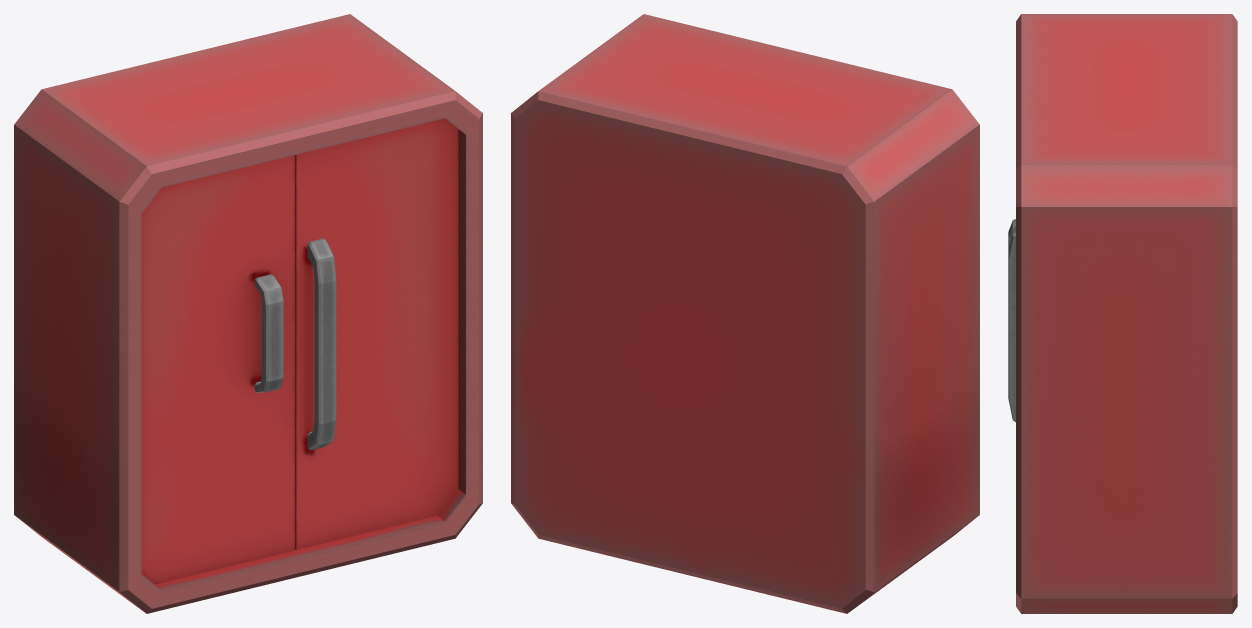
File: Fridge.fbx
3 renders of one model, left to right at view 1: azimuth 30°, elevation 25°; view 2: azimuth 150°, elevation 25°; view 3: azimuth 270°, elevation 25°, orthographic.
Parts seen in each view (by area): view 1: Fridge; view 2: Fridge; view 3: Fridge.
Boxes of the visible parts, <box> form: Fridge: <box>14,14,482,613</box>; Fridge: <box>511,14,979,613</box>; Fridge: <box>1008,14,1237,613</box>.
Bounding box in the file's own units: 163 × 192 × 88.93.
